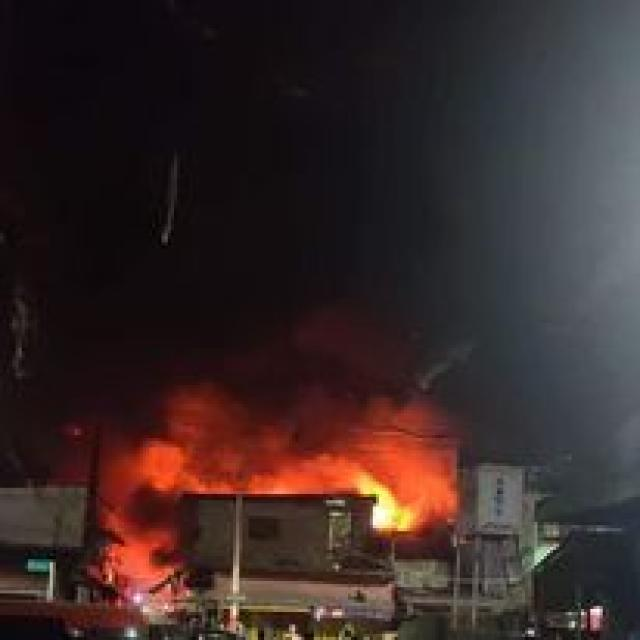Fire: (343, 465, 421, 546)
Smoke: (166, 325, 447, 465)
